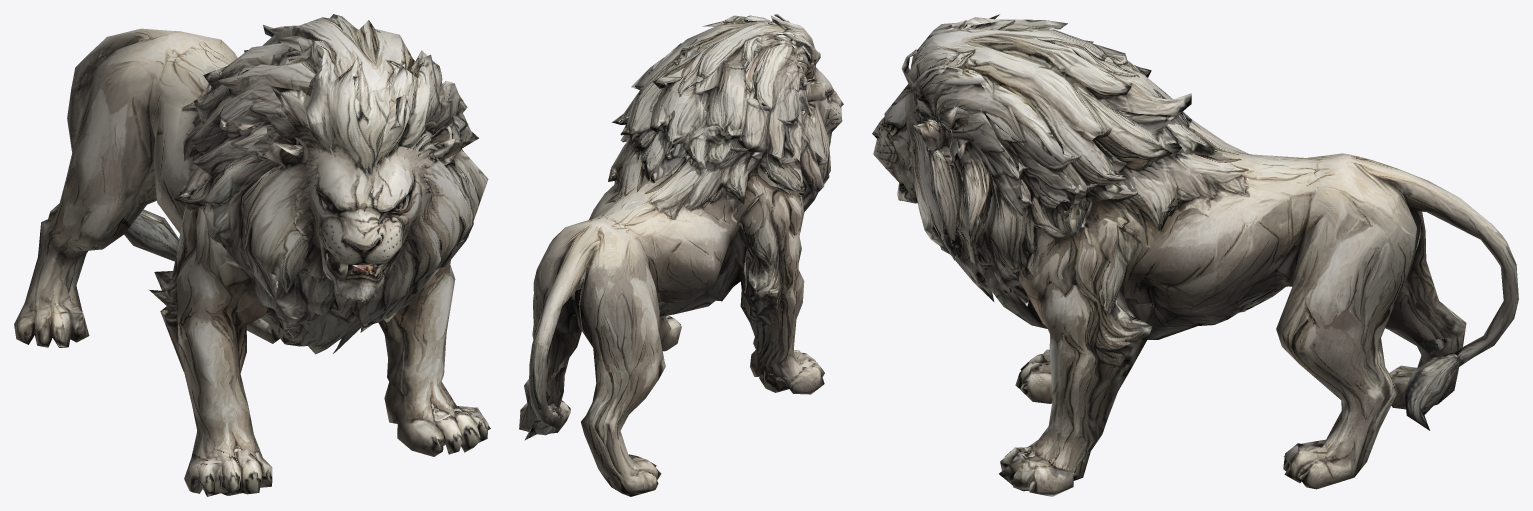
Rendered from WhiteLion.glb.
3 views of the same model, side by side, from view 1: azimuth 30°, elevation 25°; view 2: azimuth 150°, elevation 25°; view 3: azimuth 270°, elevation 25° (orthographic). The views are drawn at different scales.
Parts seen in each view (by area): view 1: texture_mapping; view 2: texture_mapping; view 3: texture_mapping.
Part boxes in pixels (left/top/right/bottom): texture_mapping: left=14, top=14, right=490, bottom=496; texture_mapping: left=519, top=14, right=843, bottom=496; texture_mapping: left=872, top=14, right=1518, bottom=496.
Bounding box in the file's own units: 0.4647 × 0.6949 × 1.
1 material, 1 textured.
